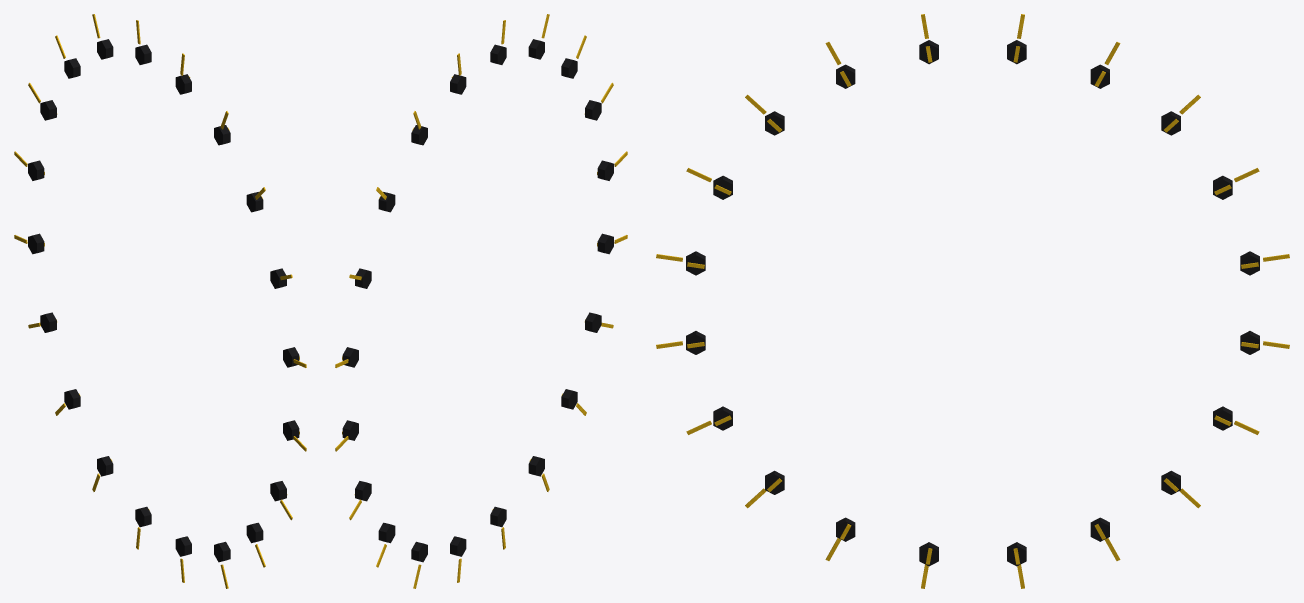
Rendered from shrink_disc_bolts_ok.glb.
The picture shows the model from 3 angles, left to right: view 1: azimuth 30°, elevation 25°; view 2: azimuth 150°, elevation 25°; view 3: azimuth 270°, elevation 25°; orthographic projection. The views are drawn at different scales.
Parts seen in each view (by area): view 1: shrink_disc_bolts_ok; view 2: shrink_disc_bolts_ok; view 3: shrink_disc_bolts_ok.
Boxes of the visible parts, bbox=[...] form: shrink_disc_bolts_ok: bbox=[14, 14, 306, 588]; shrink_disc_bolts_ok: bbox=[335, 14, 627, 588]; shrink_disc_bolts_ok: bbox=[656, 14, 1289, 588].
Bounding box in the file's own units: 0.016 × 0.9491 × 0.9491.
Materials: 2 (1 with a texture image).
